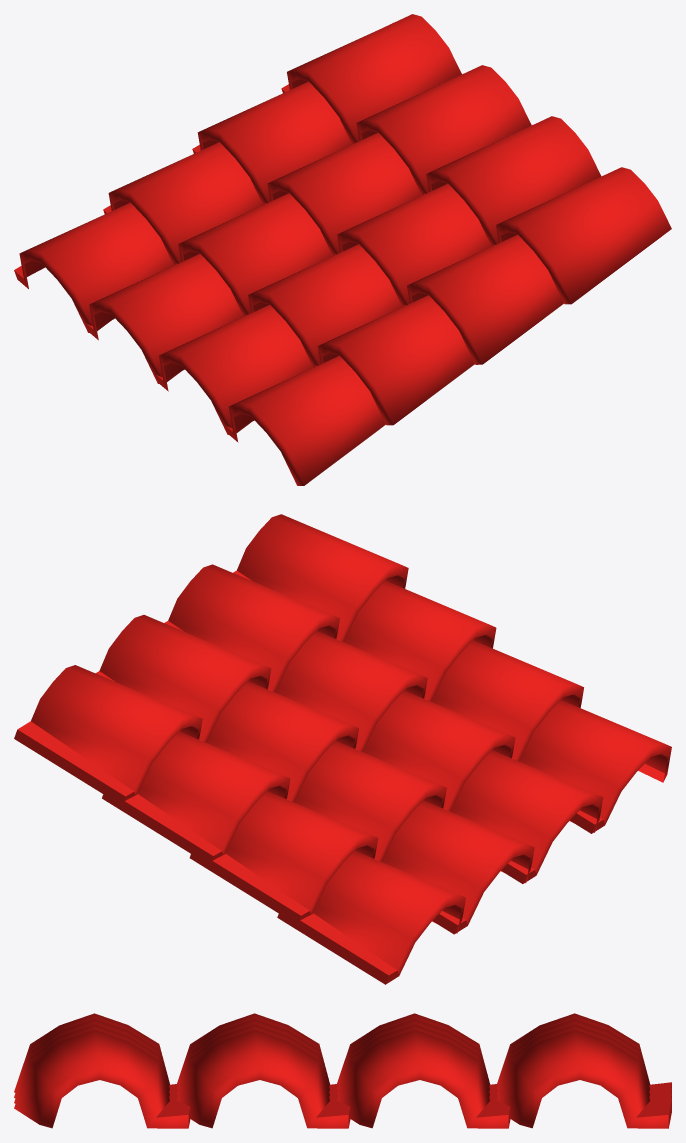
File: ParedSegundoPiso3 Variacion.fbx
3 views of the same model, one above another, from view 1: azimuth 30°, elevation 25°; view 2: azimuth 150°, elevation 25°; view 3: azimuth 270°, elevation 25° (orthographic). The views are drawn at different scales.
Visible parts, largest first — view 1: Tejado.008; view 2: Tejado.008; view 3: Tejado.008.
Boxes of the visible parts, <box> form: Tejado.008: <box>14,14,671,485</box>; Tejado.008: <box>14,514,671,984</box>; Tejado.008: <box>14,1013,671,1128</box>.
Size of the model in its own units: 214 by 105 by 267.
